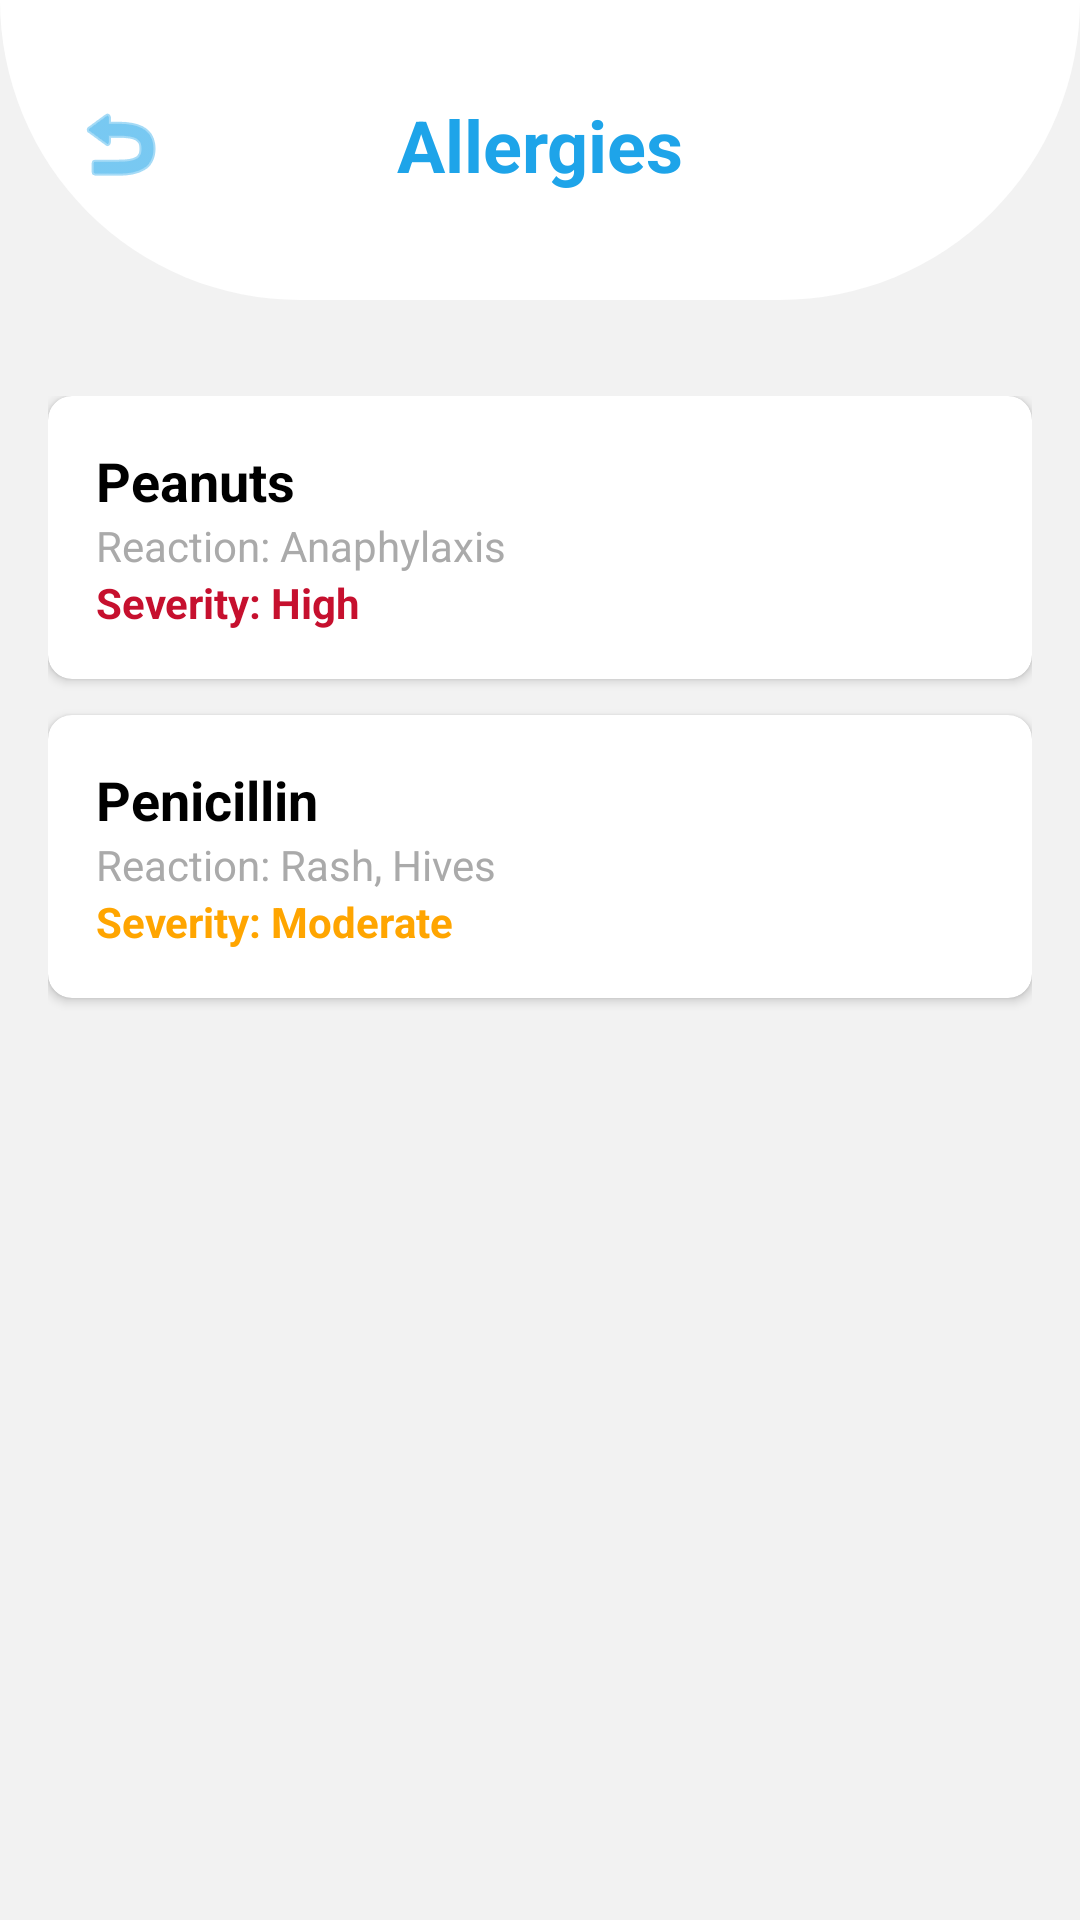

Icon bounding boxes for this 1080 × 1920 phone screenshot, format BBox(x1, y1, x2, y2):
Back: BBox(87, 113, 156, 176)
